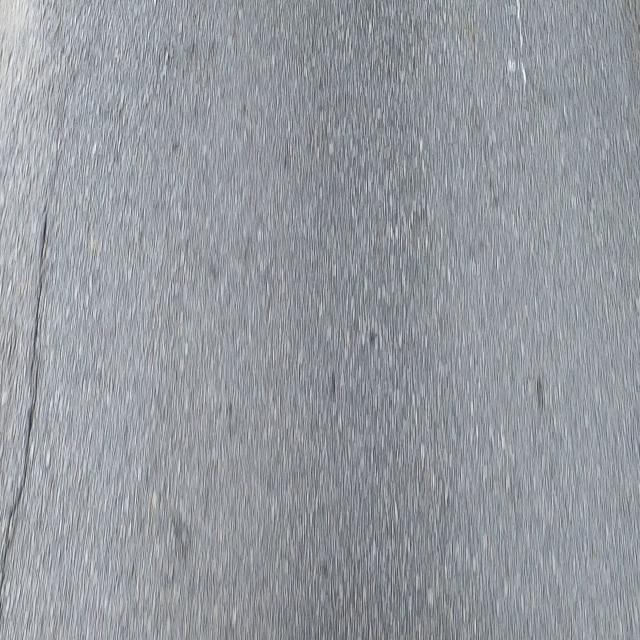Retak-Memanjang: (0, 205, 51, 603)
